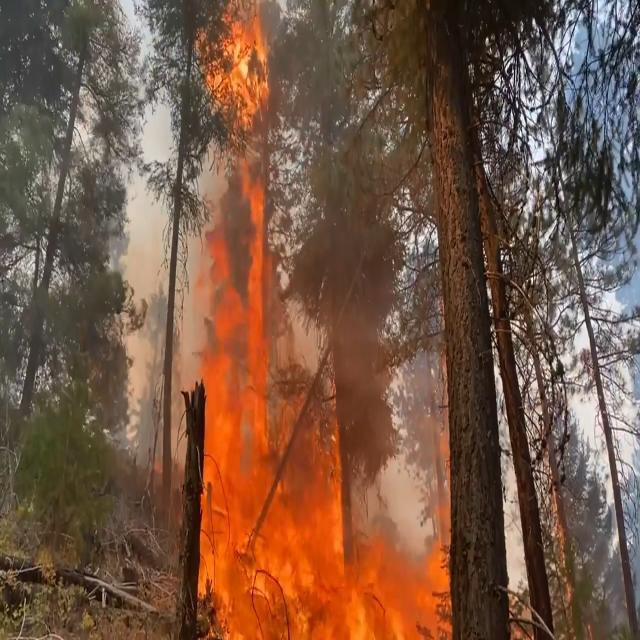Fire: (182, 0, 453, 637)
